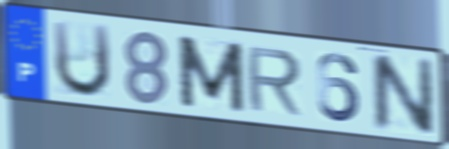6: (315, 51, 363, 124)
8: (121, 28, 171, 107)
M: (174, 33, 249, 116)
N: (367, 52, 437, 137)
R: (243, 44, 304, 118)
U: (49, 18, 114, 101)
